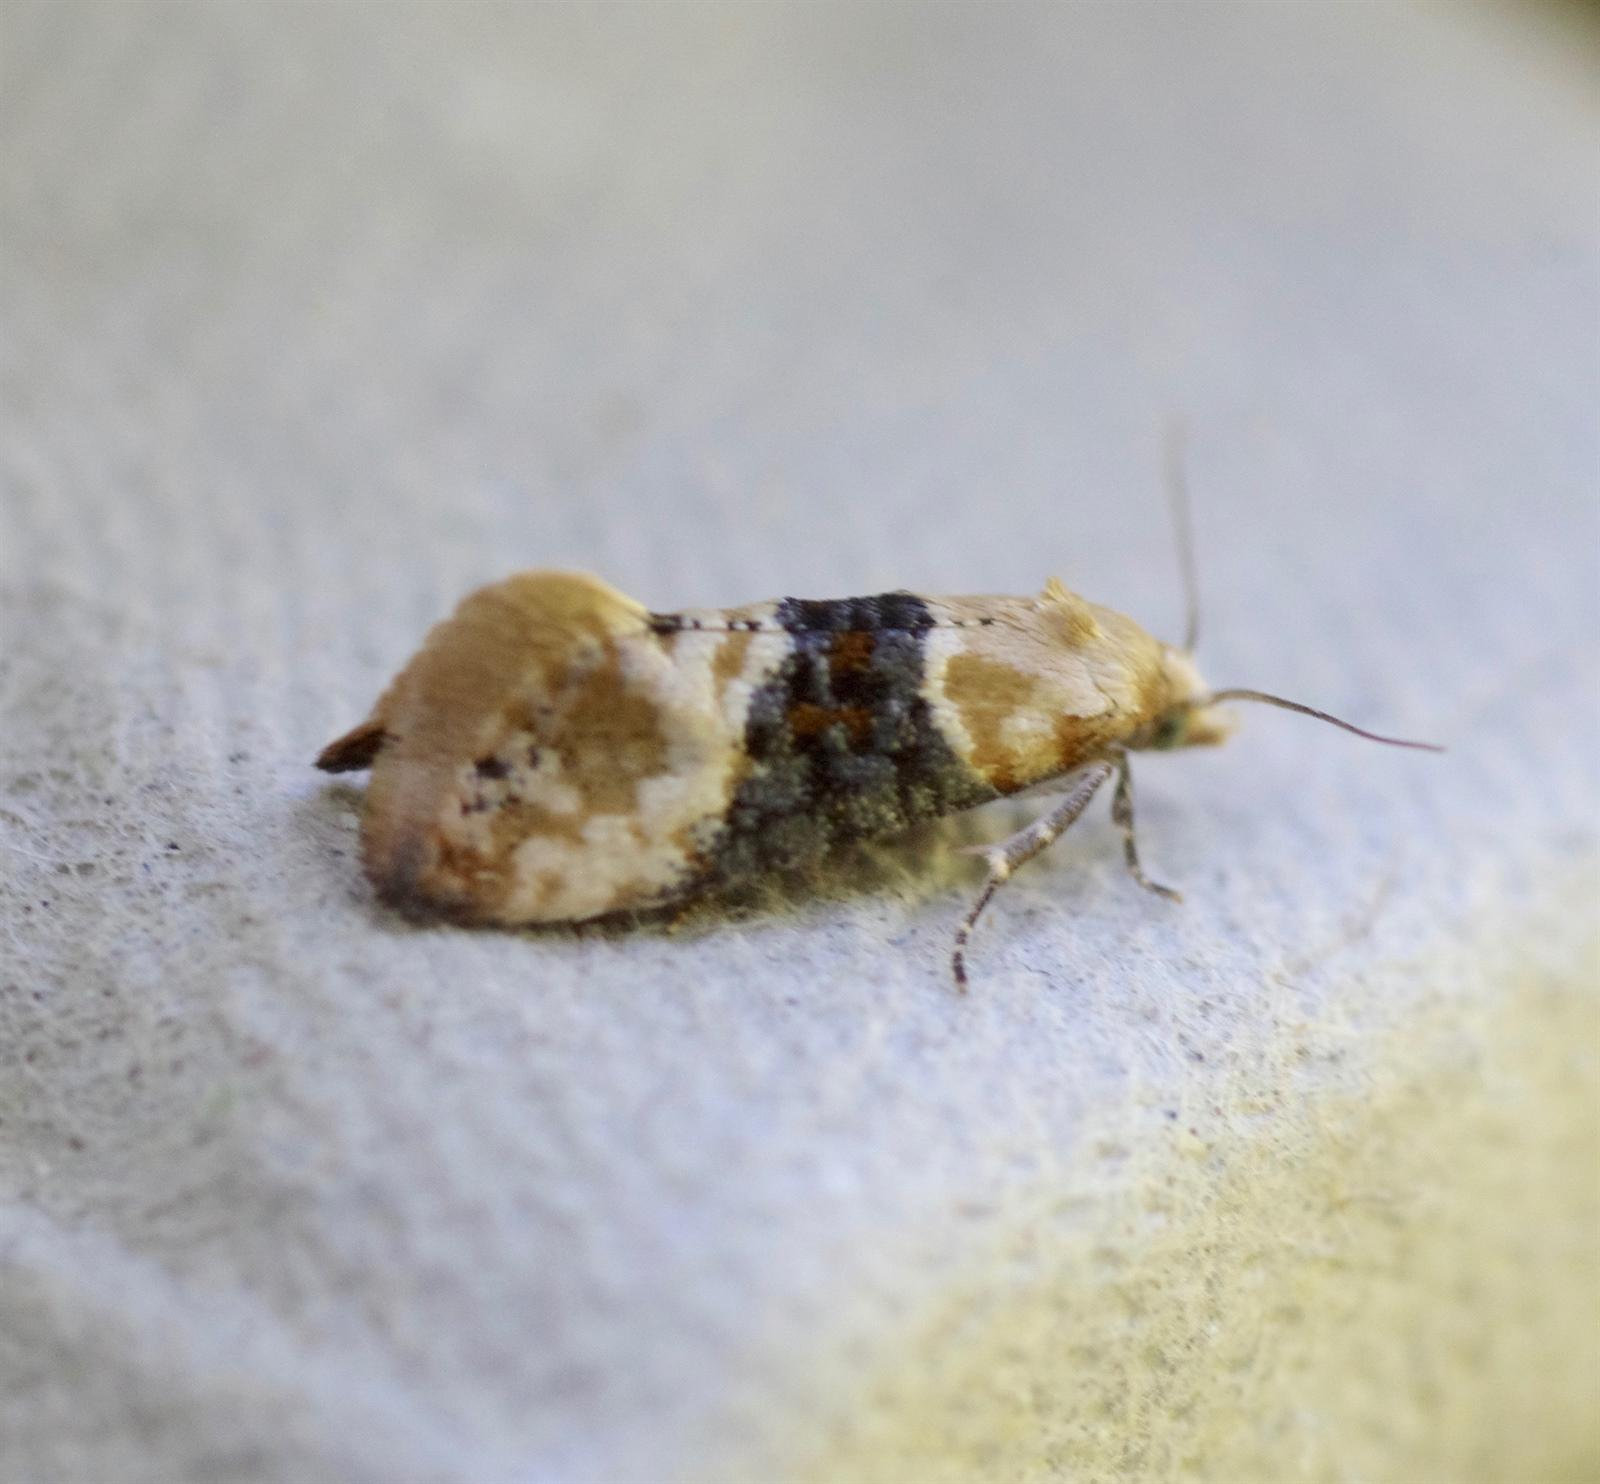Eupoecilia Ambiguella: (305, 424, 1449, 1000)
